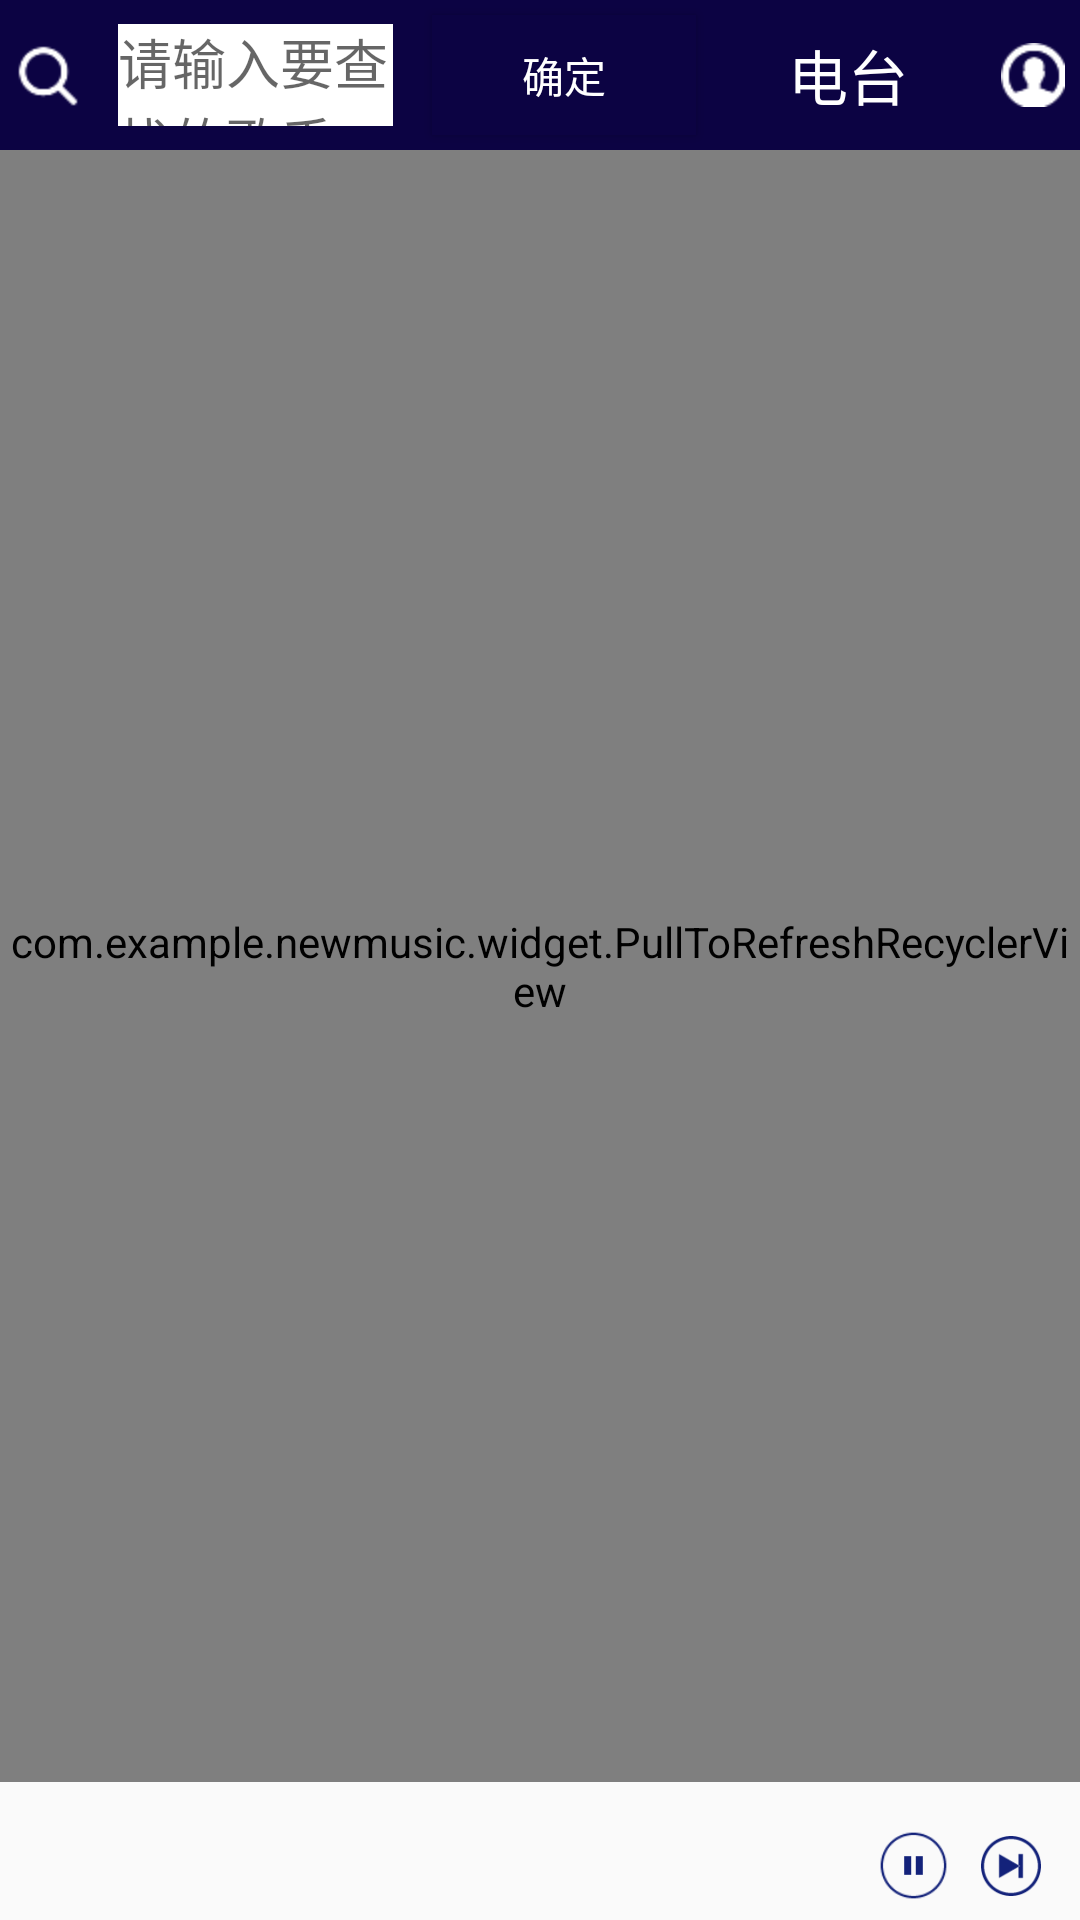

Icon bounding boxes for this 1080x1920 phone screenshot, format (x1, y1, x2, y2):
login: (1001, 43, 1065, 107)
next: (981, 1836, 1041, 1896)
pause: (880, 1832, 947, 1899)
search: (18, 46, 78, 106)
